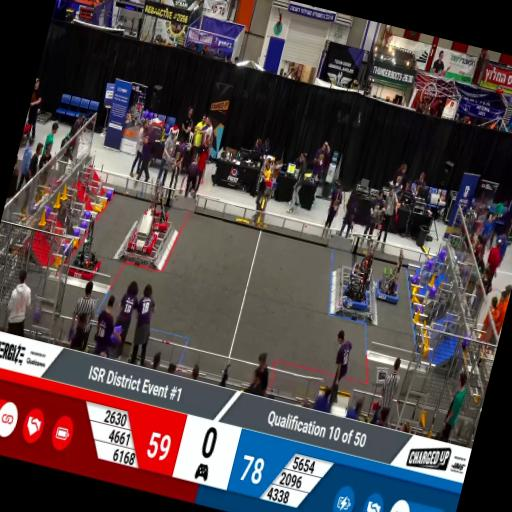robot: (64, 214, 114, 288), (372, 244, 412, 306), (140, 176, 178, 232), (346, 240, 380, 288), (126, 212, 162, 256), (338, 277, 374, 315)
